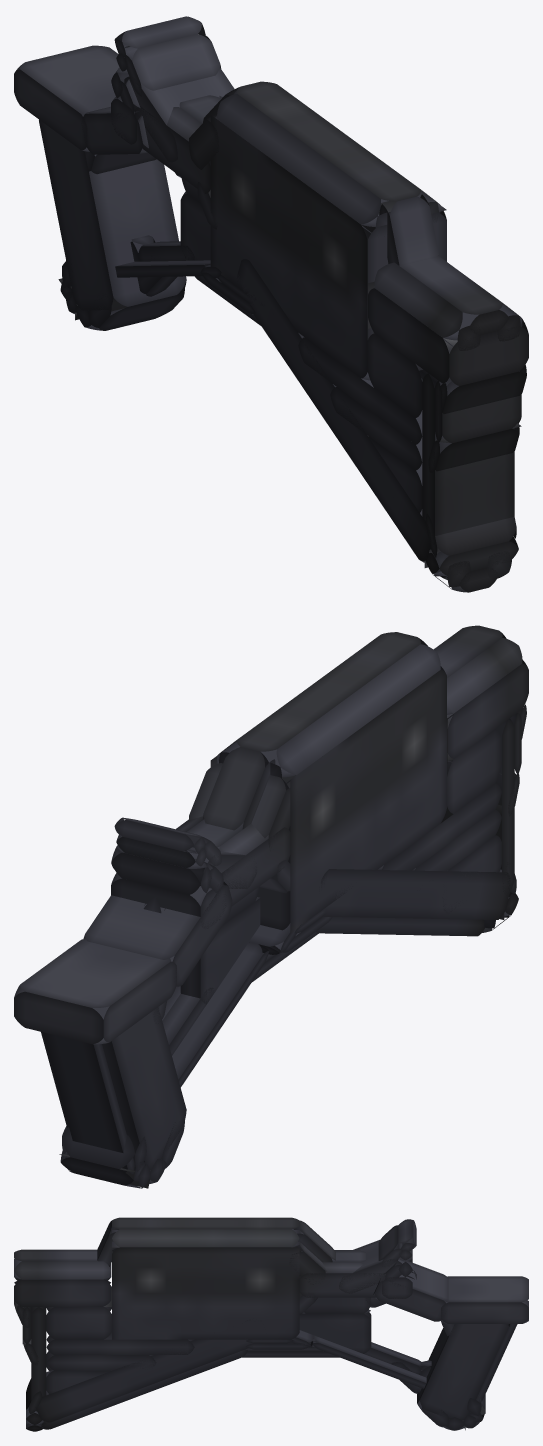
Rendered from ak47_stock_heavy.fbx.
The picture shows the model from 3 angles, top to bottom: view 1: azimuth 30°, elevation 25°; view 2: azimuth 150°, elevation 25°; view 3: azimuth 270°, elevation 25°; orthographic projection. The views are drawn at different scales.
Visible parts, largest first — view 1: cube_5, cube_51, cube_2, cube_40, cube_4, cube_58, cube_31, cube_29, cube_13, cube_39, cube_37, cube_49 (+23 smaller); view 2: cube_5, cube_58, cube_2, cube_51, cube_12, cube_31, cube_55, cube_29, cube_20, cube_15, cube_40, cube_1 (+21 smaller); view 3: cube_5, cube_51, cube_2, cube_58, cube_30, cube_40, cube_29, cube_12, cube_49, cube_1, cube_6, cube_8 (+26 smaller).
Part boxes in pixels (box(x1,y1,x2,y2)): cube_5: box(210, 115, 446, 380); cube_51: box(39, 114, 186, 310); cube_2: box(237, 259, 431, 562); cube_40: box(368, 281, 528, 385); cube_4: box(422, 373, 514, 549); cube_58: box(14, 45, 119, 151); cube_31: box(217, 94, 390, 236); cube_29: box(234, 81, 420, 201); cube_13: box(125, 34, 221, 96); cube_39: box(374, 262, 480, 350); cube_37: box(388, 256, 508, 335); cube_49: box(298, 337, 439, 444); cube_5: box(210, 666, 446, 933); cube_58: box(14, 938, 176, 1044); cube_2: box(319, 865, 511, 919); cube_51: box(41, 1007, 186, 1170); cube_12: box(83, 882, 232, 987); cube_31: box(265, 644, 440, 783); cube_55: box(43, 1032, 134, 1173); cube_29: box(237, 632, 420, 763); cube_20: box(162, 942, 269, 1087); cube_15: box(203, 747, 275, 830); cube_40: box(447, 659, 528, 763); cube_1: box(180, 897, 260, 1004); cube_5: box(112, 1229, 299, 1339); cube_51: box(417, 1324, 509, 1420); cube_2: box(35, 1320, 255, 1422); cube_58: box(441, 1276, 528, 1323); cube_30: box(112, 1229, 299, 1251); cube_40: box(14, 1259, 111, 1306); cube_29: box(112, 1217, 299, 1229); cube_12: box(373, 1259, 448, 1321); cube_49: box(46, 1339, 194, 1354); cube_1: box(299, 1309, 371, 1353); cube_6: box(46, 1286, 112, 1339); cube_8: box(299, 1251, 385, 1297).
Size of the model in its own units: 12.38 by 44.75 by 103.
1 material, 1 textured.
